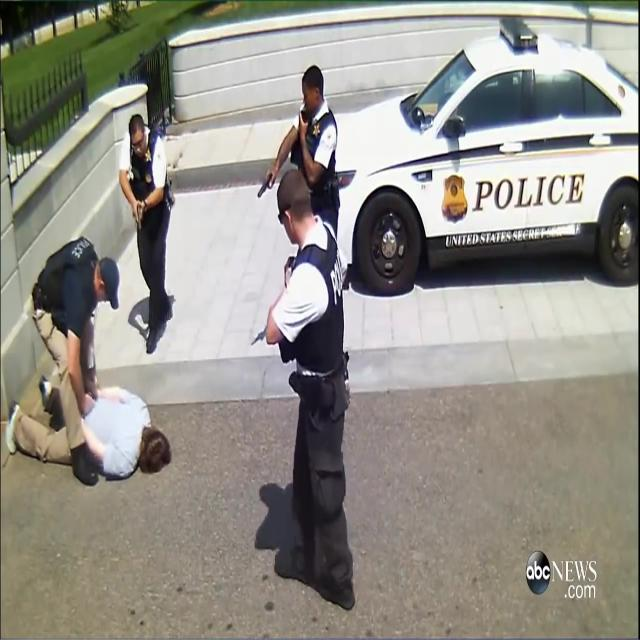Weapon: (237, 145, 284, 220), (126, 198, 156, 240)
